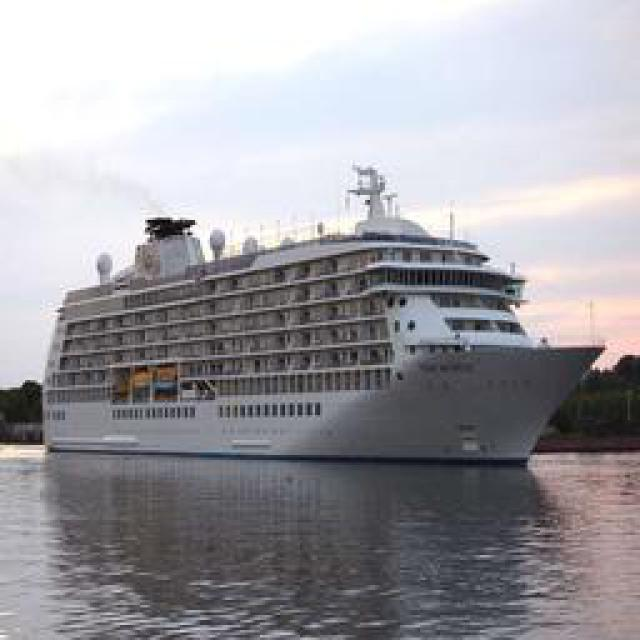Ship: (48, 182, 603, 465)
